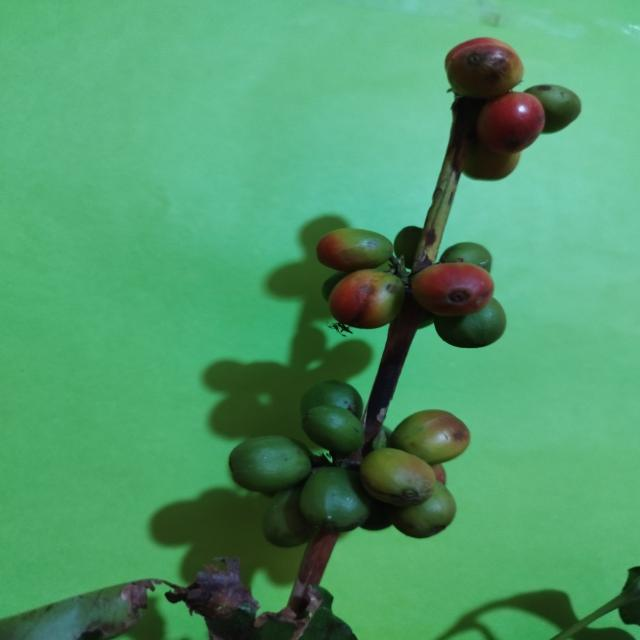Danado: (445, 37, 524, 98)
Sano: (229, 436, 312, 496), (360, 448, 438, 508), (300, 467, 372, 532), (387, 410, 470, 465), (329, 270, 404, 329), (411, 263, 494, 316), (390, 481, 456, 538), (434, 297, 506, 348), (316, 228, 393, 272), (302, 405, 364, 455), (524, 85, 581, 134)
